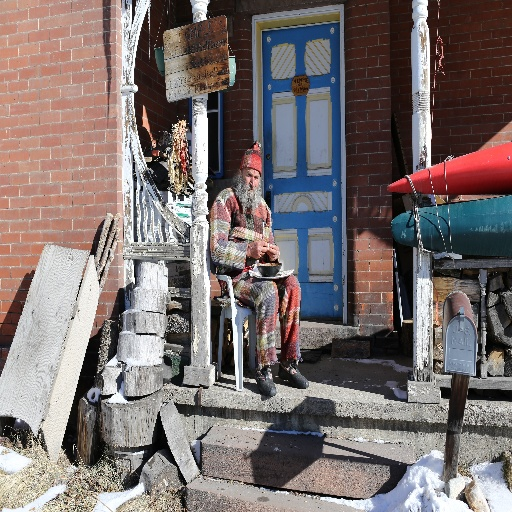hand: (250, 239, 267, 260), (265, 243, 280, 264)
